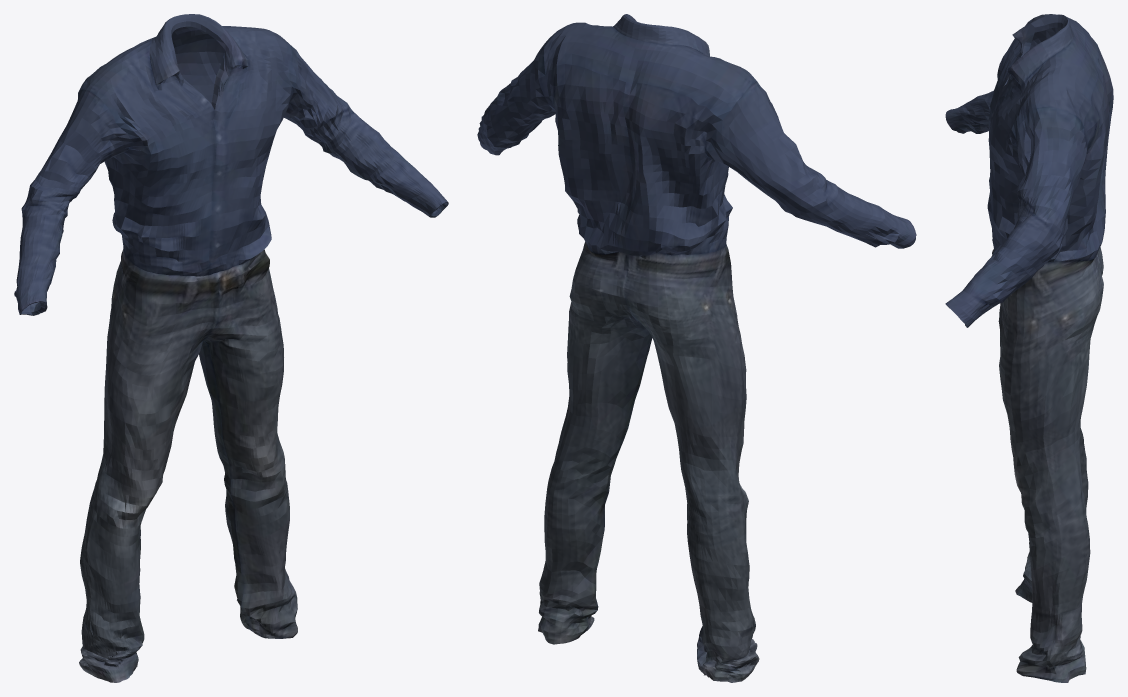
File: mhw_male_casualsuit01.glb
The picture shows the model from 3 angles, left to right: view 1: azimuth 30°, elevation 25°; view 2: azimuth 150°, elevation 25°; view 3: azimuth 270°, elevation 25°; orthographic projection. The views are drawn at different scales.
Parts seen in each view (by area): view 1: mhw_male_casualsuit01; view 2: mhw_male_casualsuit01; view 3: mhw_male_casualsuit01.
Boxes of the visible parts, box(x1,y1,x2,y2) form: mhw_male_casualsuit01: box(14, 14, 448, 682); mhw_male_casualsuit01: box(477, 14, 916, 682); mhw_male_casualsuit01: box(945, 14, 1113, 682).
Size of the model in its own units: 1.12 by 1.56 by 0.3875.
1 material, 1 textured.
